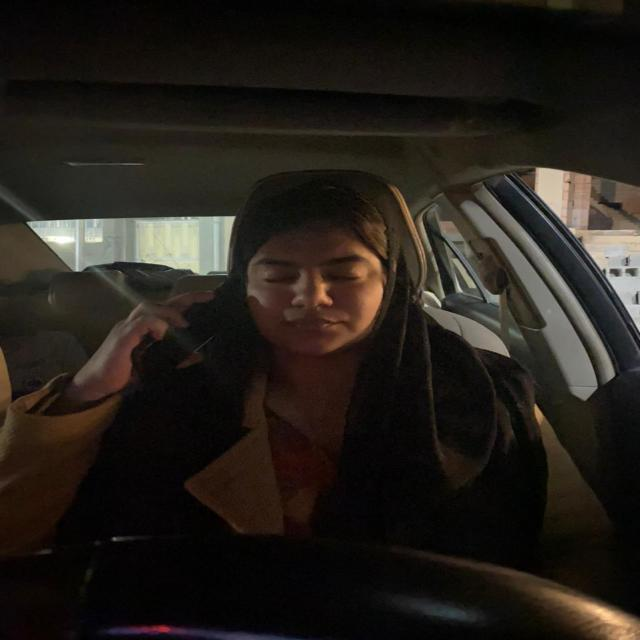mobile: (130, 288, 228, 383)
person: (229, 174, 407, 362)
